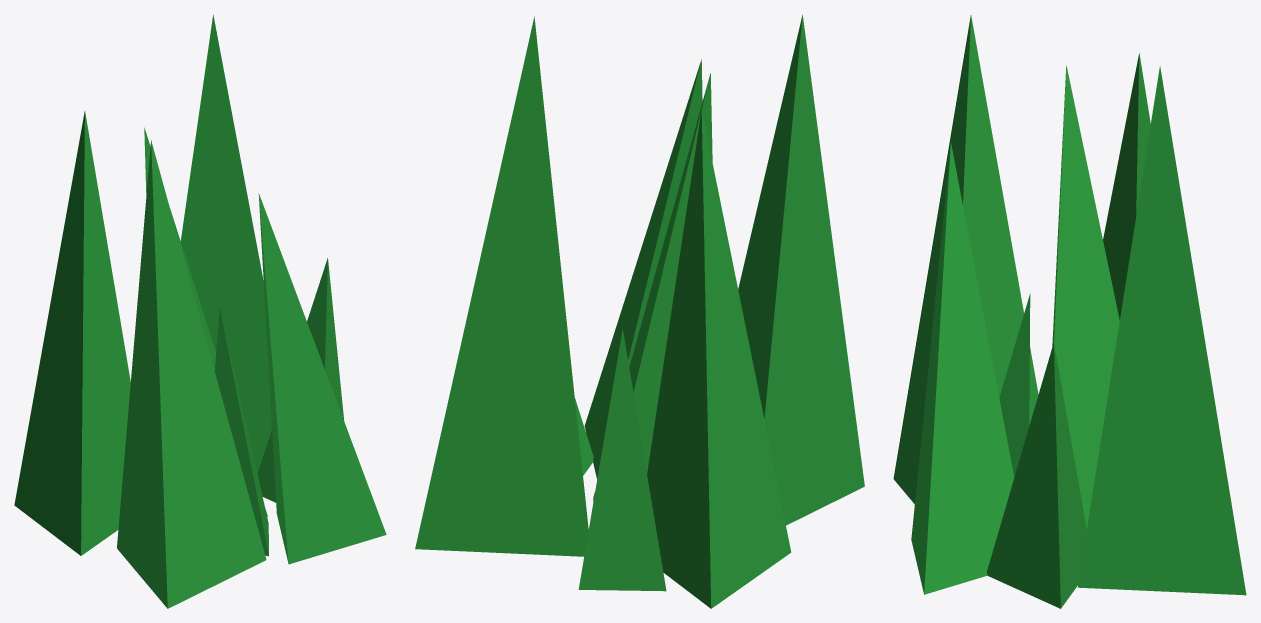
Rendered from Grass.fbx.
3 views of the same model, side by side, from view 1: azimuth 30°, elevation 25°; view 2: azimuth 150°, elevation 25°; view 3: azimuth 270°, elevation 25° (orthographic). The views are drawn at different scales.
Visible parts, largest first — view 1: Grass; view 2: Grass; view 3: Grass.
Part boxes in pixels (x1,y1,x2,y2): Grass: [14, 15, 386, 608]; Grass: [415, 15, 864, 608]; Grass: [893, 15, 1246, 608].
Size of the model in its own units: 7.69 by 12.59 by 8.01.
